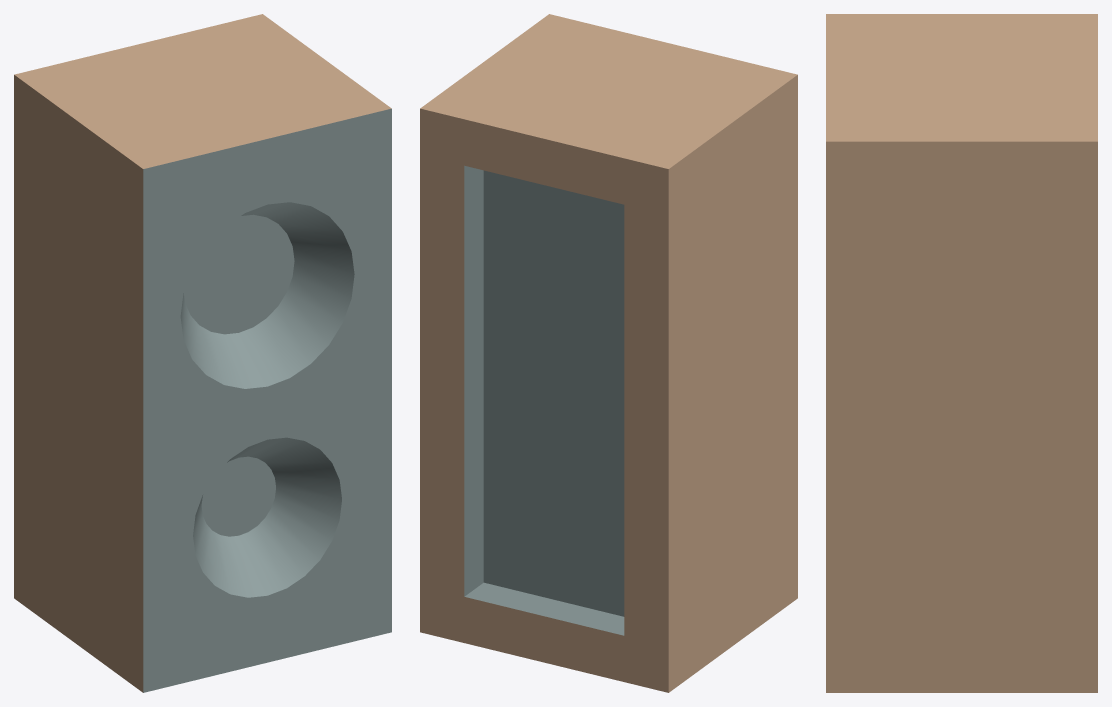
Rendered from speakerSmall.glb.
3 views of the same model, side by side, from view 1: azimuth 30°, elevation 25°; view 2: azimuth 150°, elevation 25°; view 3: azimuth 270°, elevation 25° (orthographic). The views are drawn at different scales.
Visible parts, largest first — view 1: speakerSmall; view 2: speakerSmall; view 3: speakerSmall.
Part boxes in pixels (bbox=[...]): speakerSmall: bbox=[14, 14, 391, 692]; speakerSmall: bbox=[420, 14, 797, 692]; speakerSmall: bbox=[826, 14, 1097, 692].
Bounding box in the file's own units: 0.148 × 0.298 × 0.1332.
